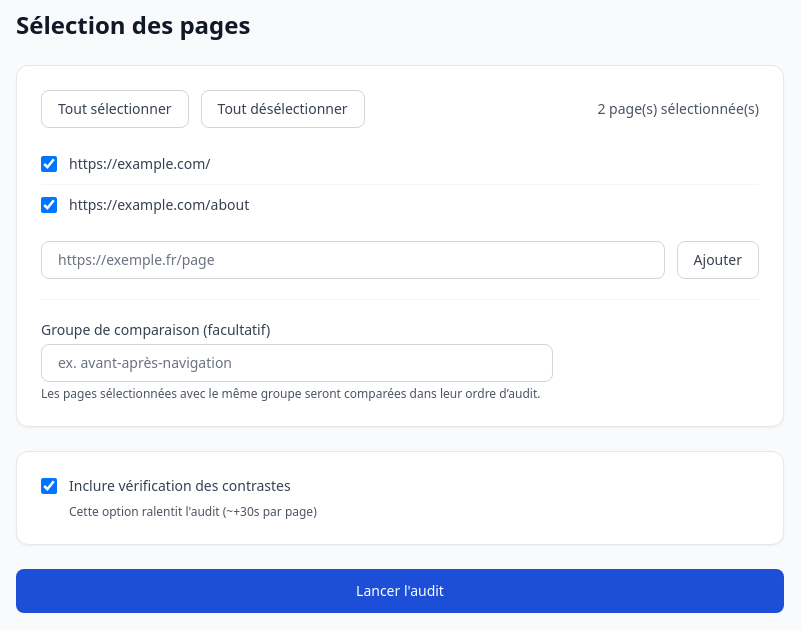
Test case: PageSelection › bouton "Lancer l'audit" désactivé si 0 pages cochées
Step 1. Click the button "Tout désélectionner" → point(283, 109), box [201,90,365,128]
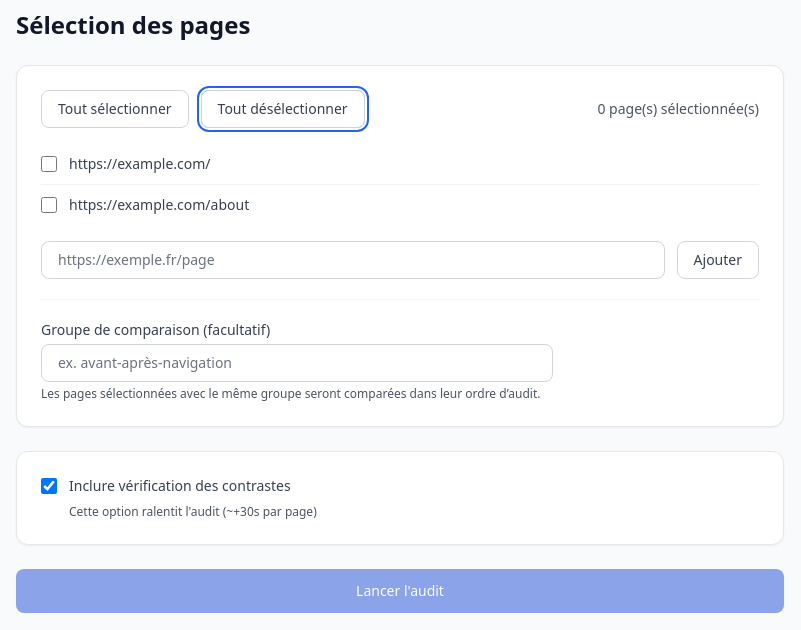
Expected: the button "Lancer l'audit" is disabled, [16,569,784,613]
